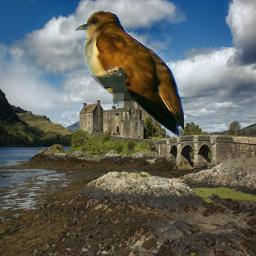Cuckoo: (75, 10, 184, 138)
